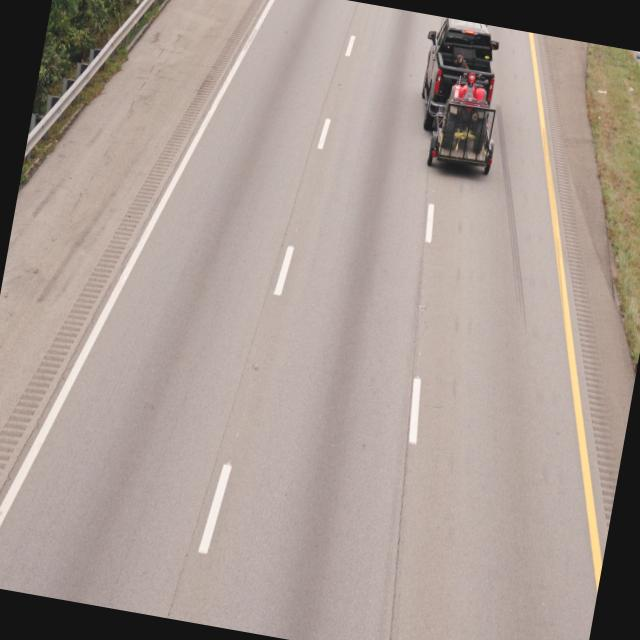Vehicle: (402, 14, 517, 180)
